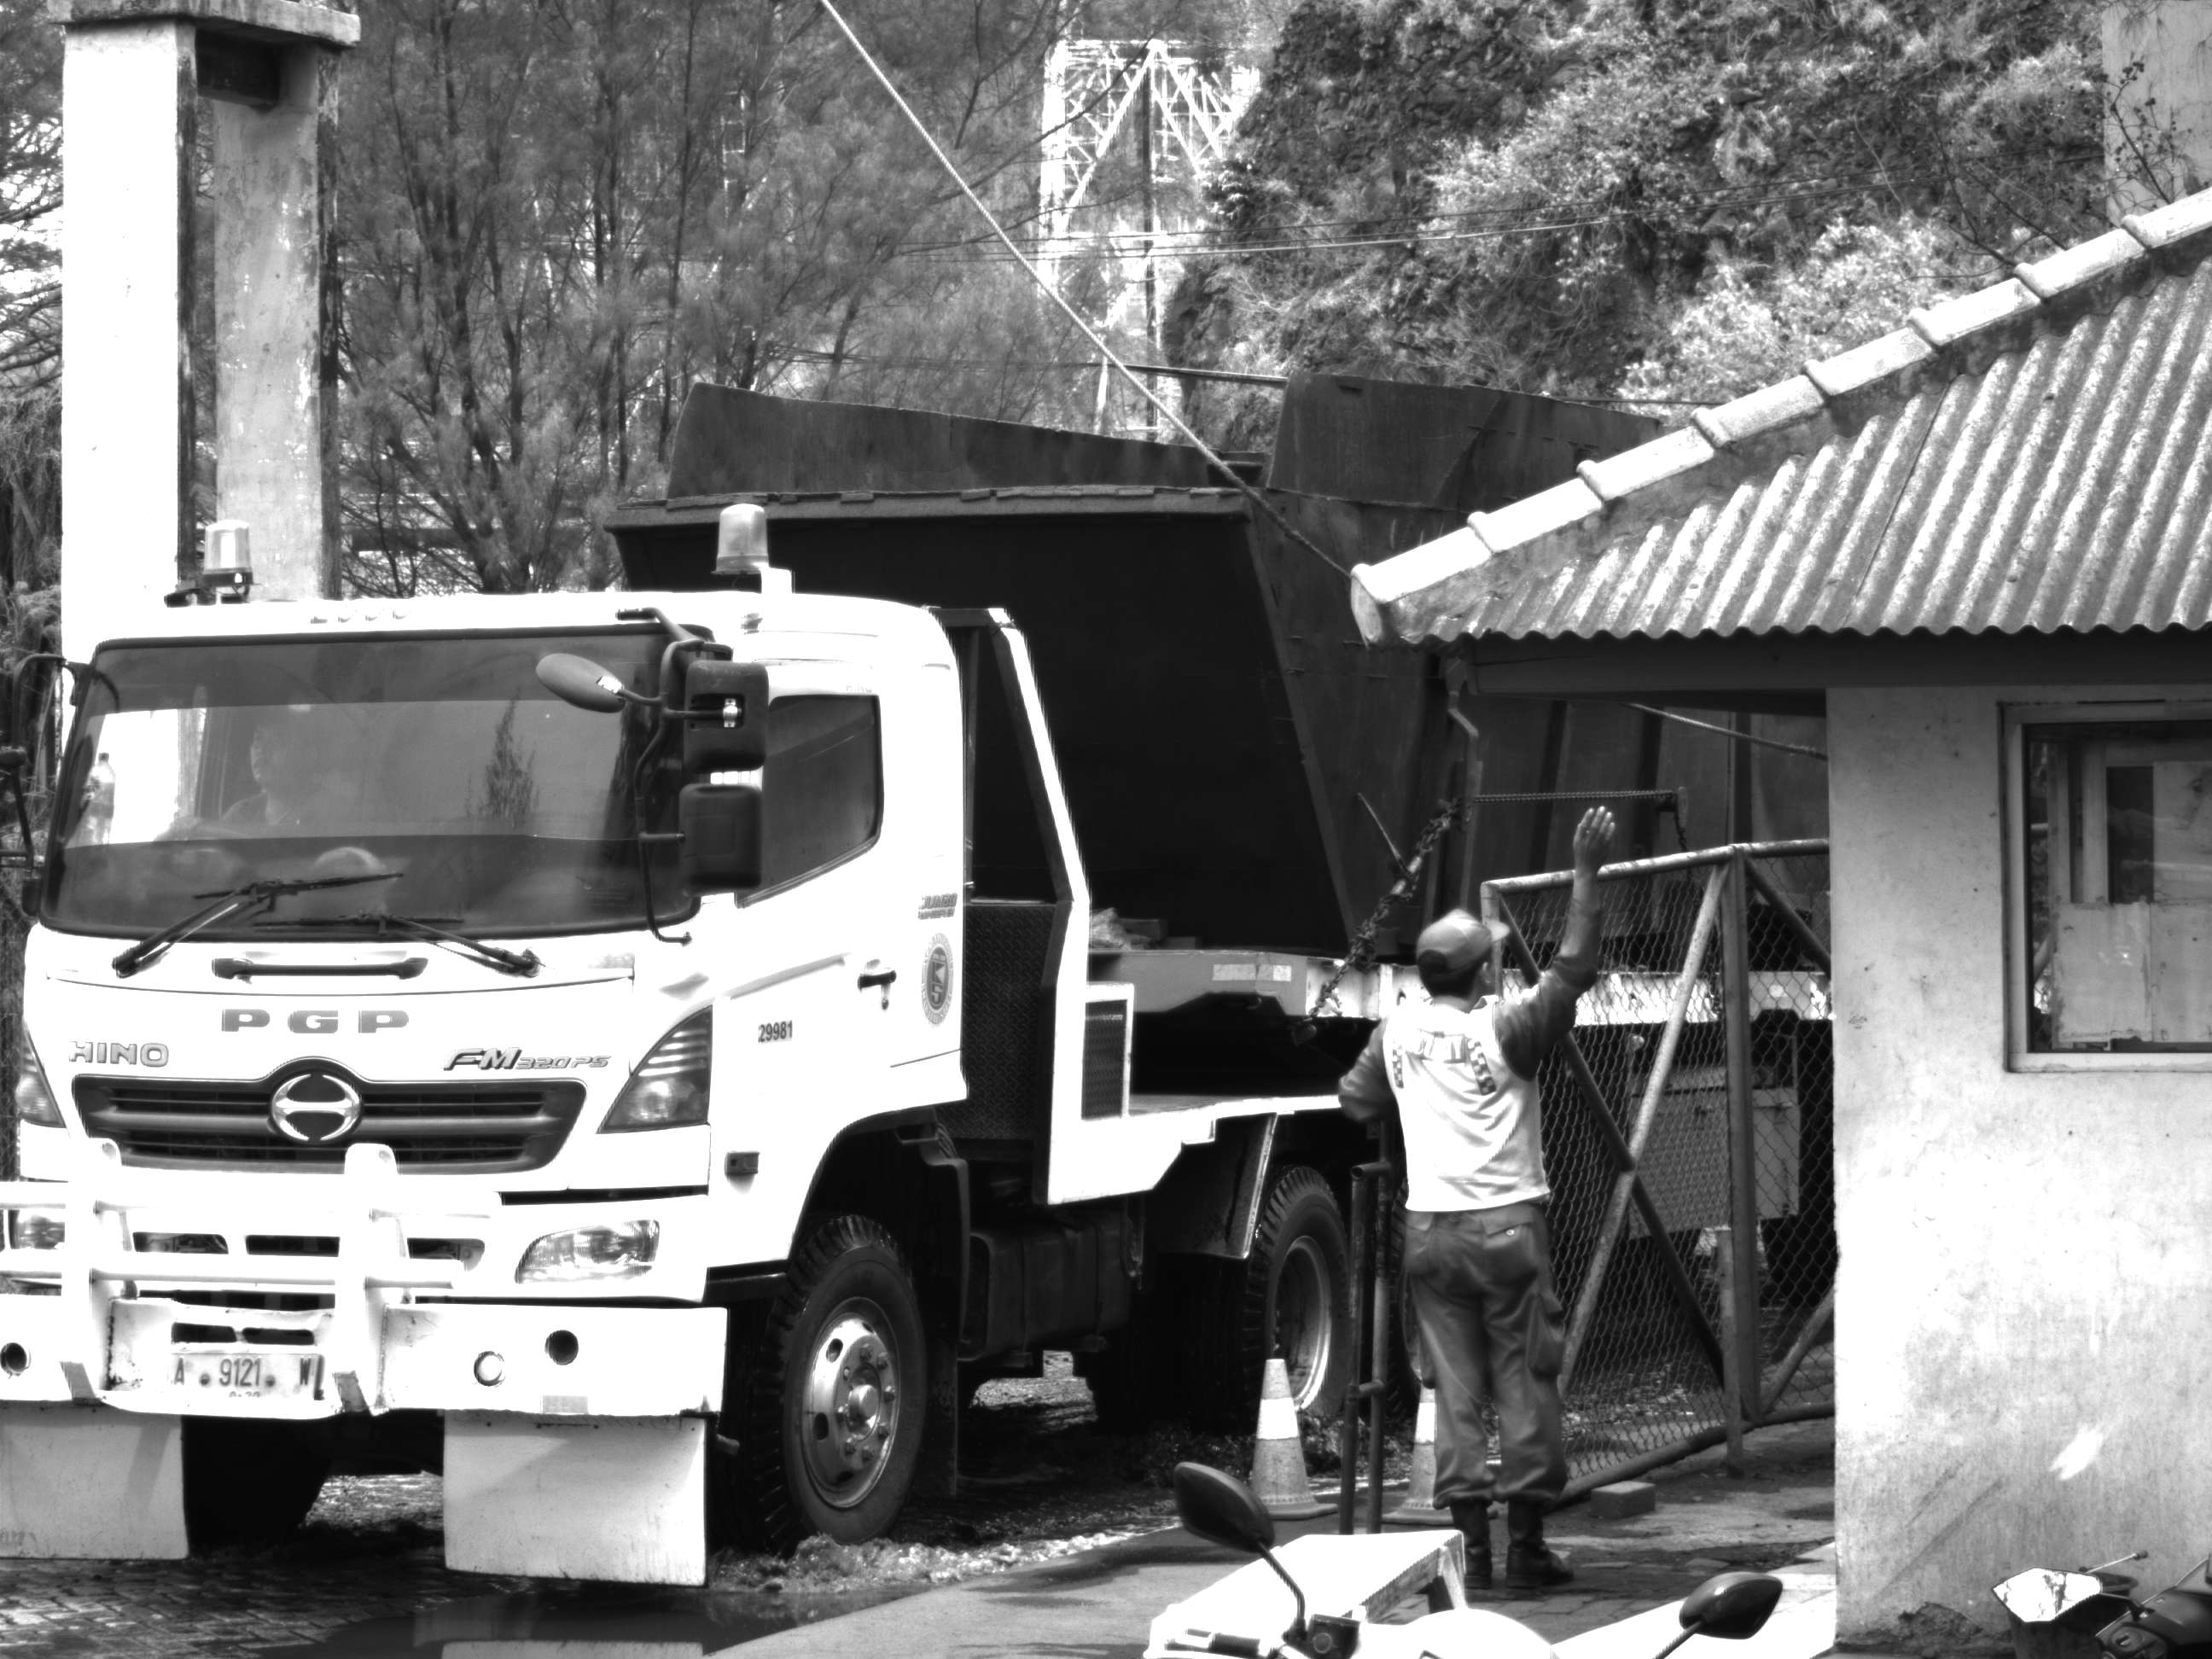day_truck_front: (1, 599, 973, 1575)
plate: (159, 1346, 326, 1417)
